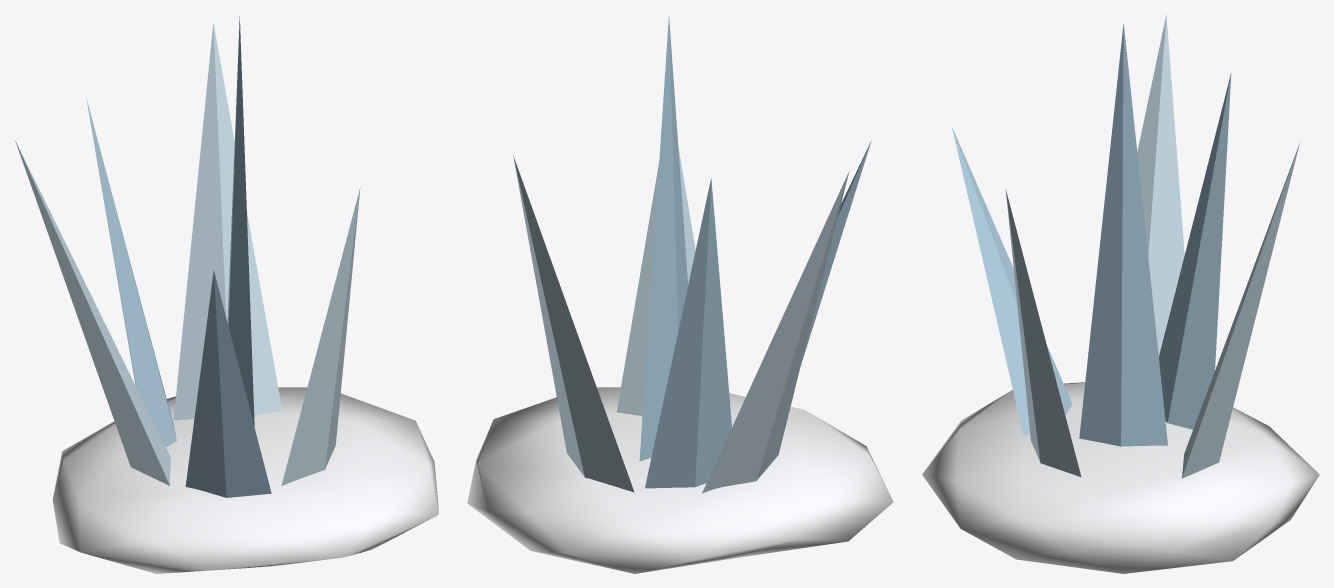
Rendered from Ice_Shards.gltf.
3 renders of one model, left to right at view 1: azimuth 30°, elevation 25°; view 2: azimuth 150°, elevation 25°; view 3: azimuth 270°, elevation 25°, orthographic. The views are drawn at different scales.
Visible parts, largest first — view 1: Ice_Shards; view 2: Ice_Shards; view 3: Ice_Shards.
Boxes of the visible parts, bbox=[...] form: Ice_Shards: bbox=[15, 16, 438, 573]; Ice_Shards: bbox=[467, 16, 893, 573]; Ice_Shards: bbox=[922, 14, 1319, 573].
Size of the model in its own units: 0.5344 by 0.6897 by 0.5013.
